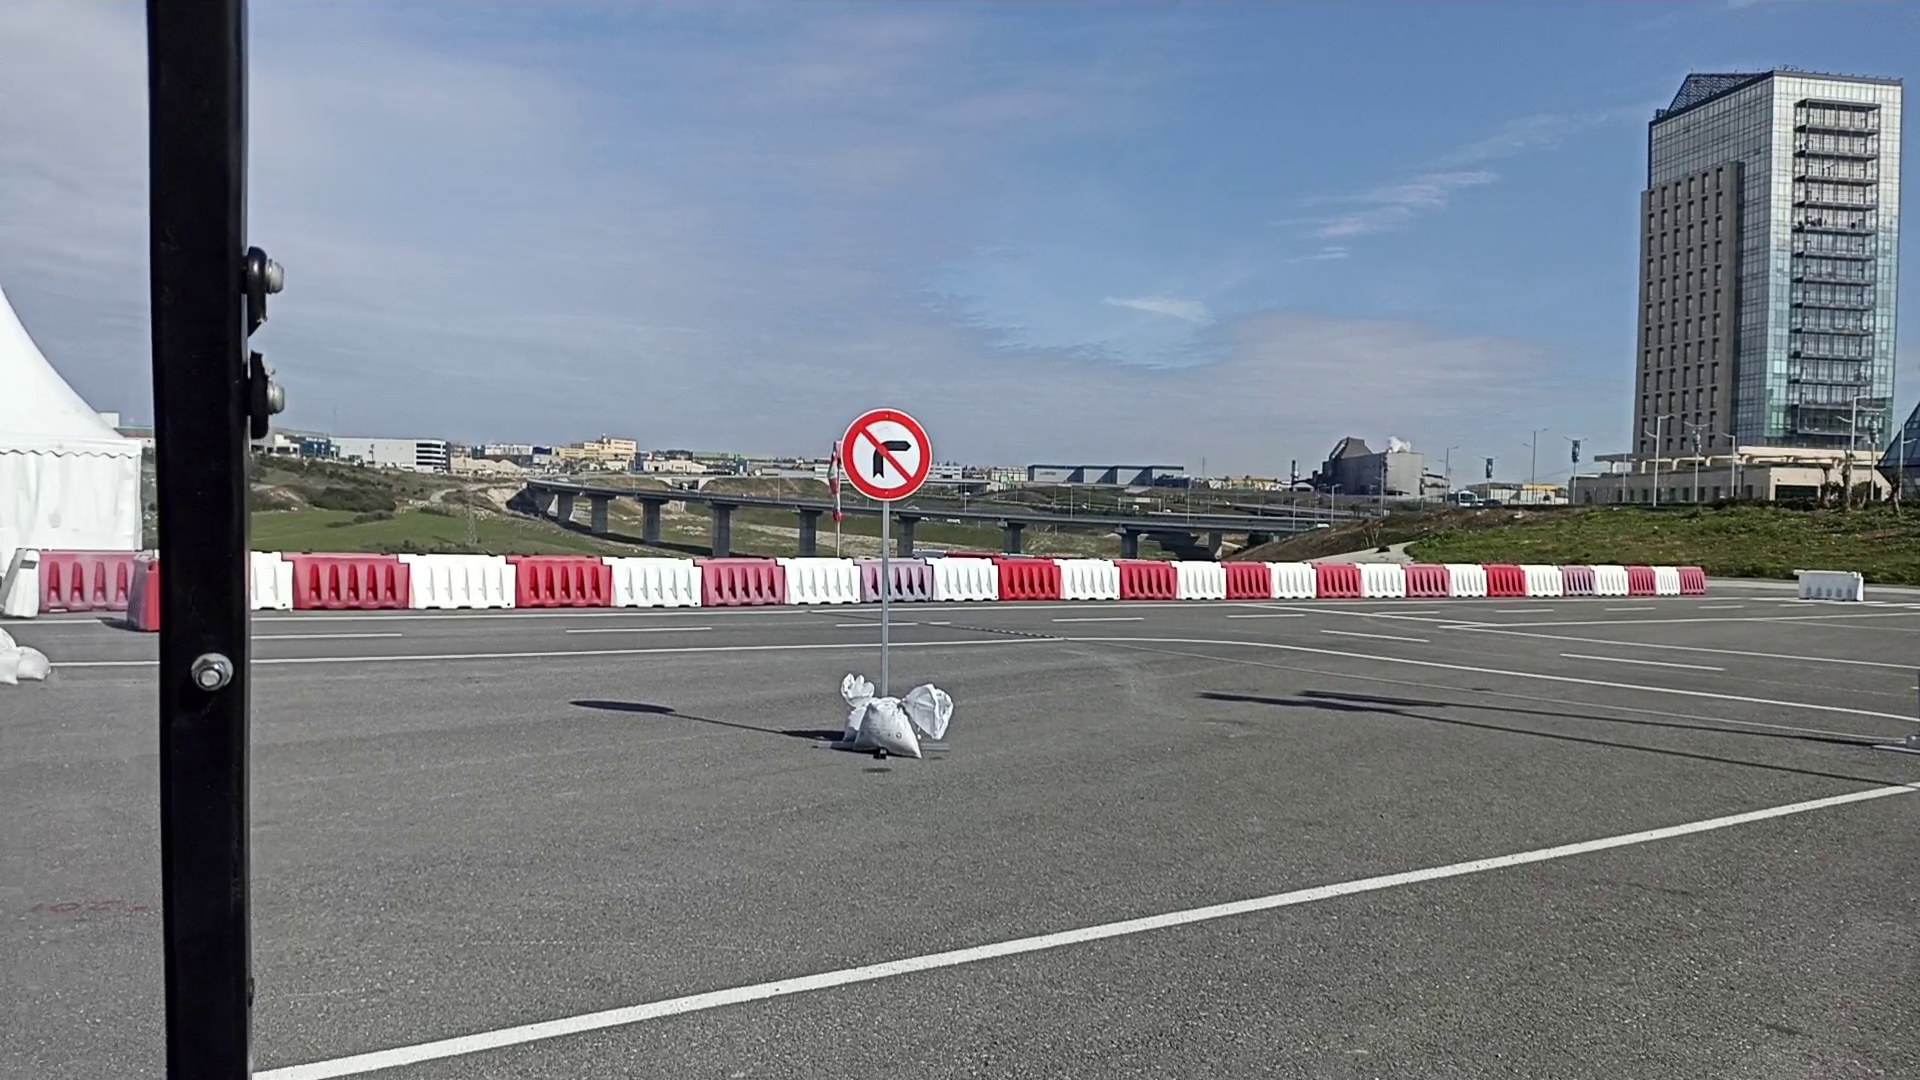noleftturn: (839, 405, 934, 505)
